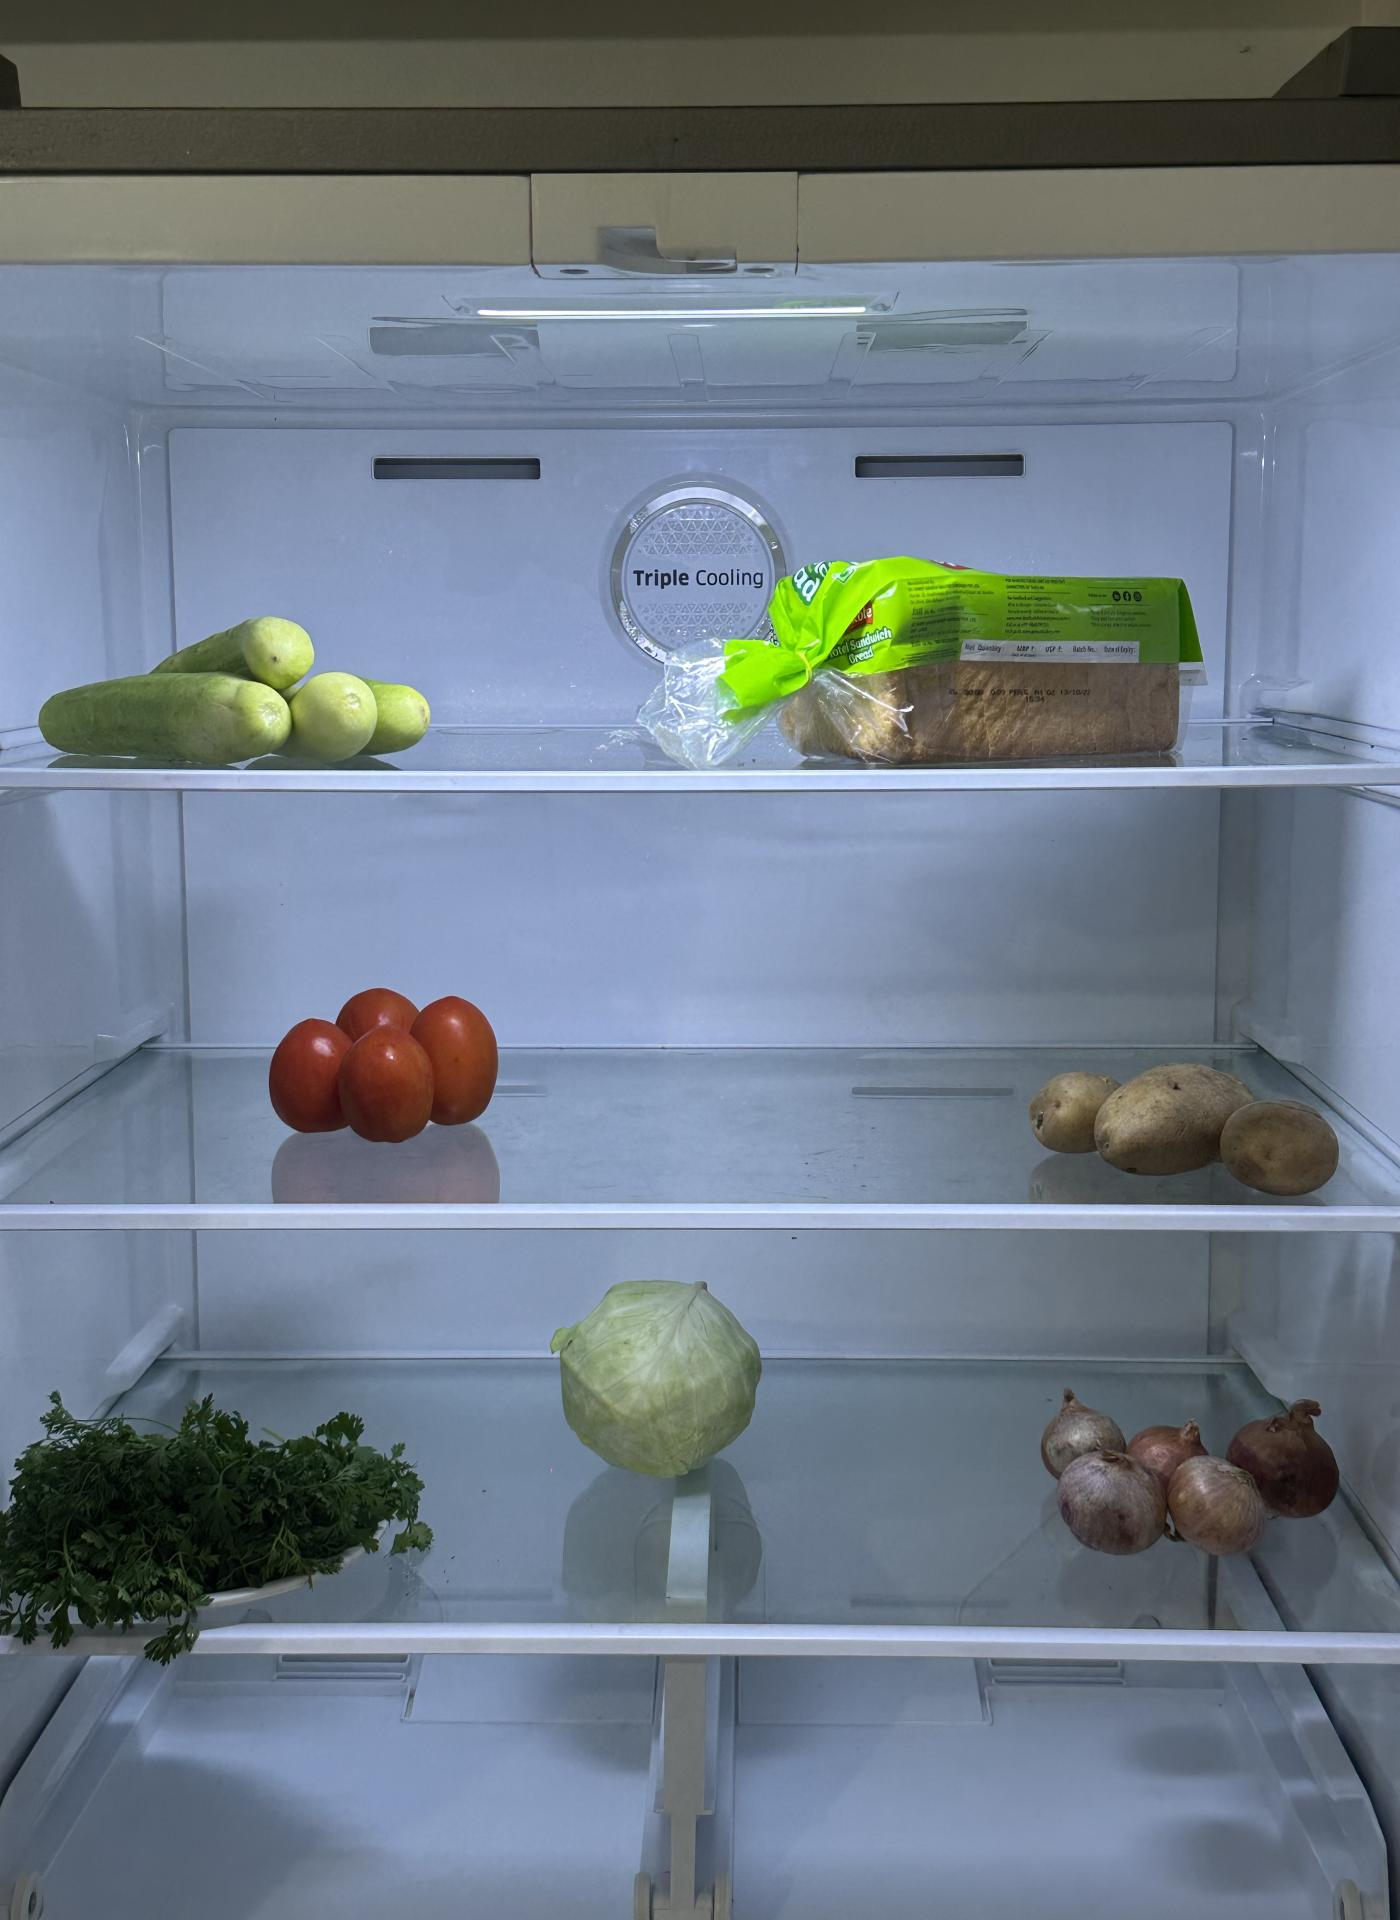bread: (775, 550, 1211, 771)
cabbage: (558, 1273, 763, 1479)
coriander: (0, 1400, 423, 1623)
cucumber: (27, 622, 423, 790)
onion: (1042, 1379, 1354, 1558)
potato: (1024, 1048, 1343, 1191)
tomato: (262, 981, 504, 1148)
